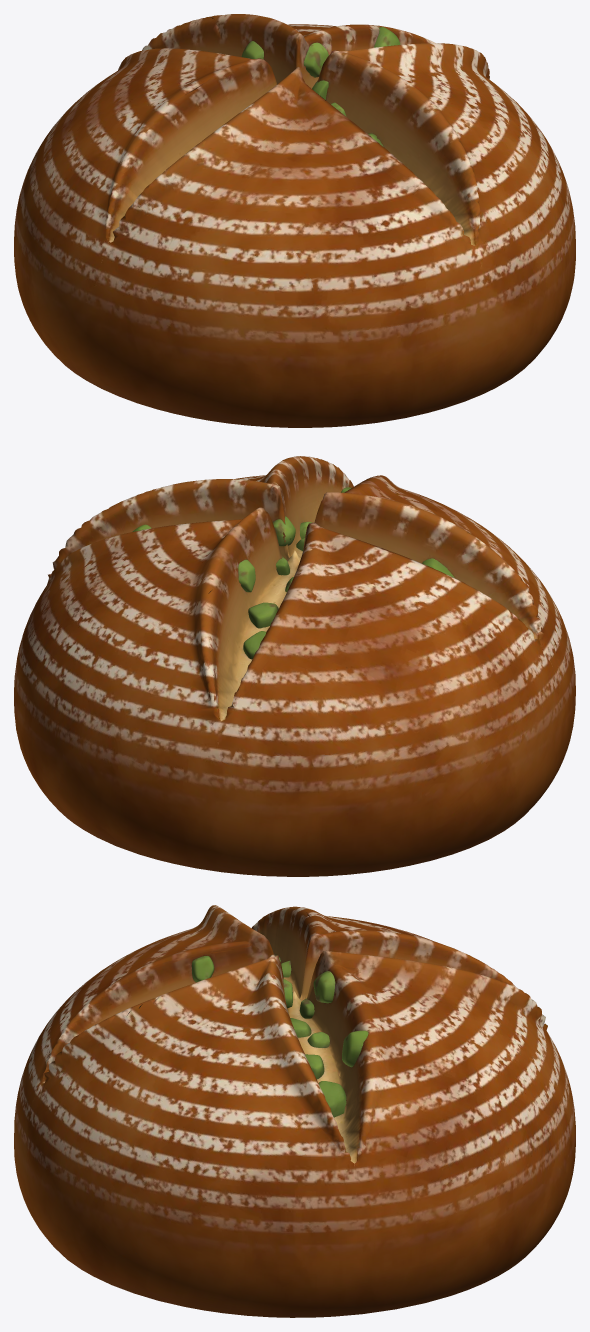
Rendered from campagne--pistachio-piece.glb.
3 views of the same model, one above another, from view 1: azimuth 30°, elevation 25°; view 2: azimuth 150°, elevation 25°; view 3: azimuth 270°, elevation 25° (orthographic).
Parts seen in each view (by area): view 1: campagne_pistachio-piece; view 2: campagne_pistachio-piece; view 3: campagne_pistachio-piece.
Boxes of the visible parts, x1,y1,x2,y2 form: campagne_pistachio-piece: (14,14,575,427); campagne_pistachio-piece: (14,456,575,876); campagne_pistachio-piece: (14,905,575,1317).
Size of the model in its own units: 0.9988 by 0.5303 by 0.999.
Materials: 1 (1 with a texture image).
